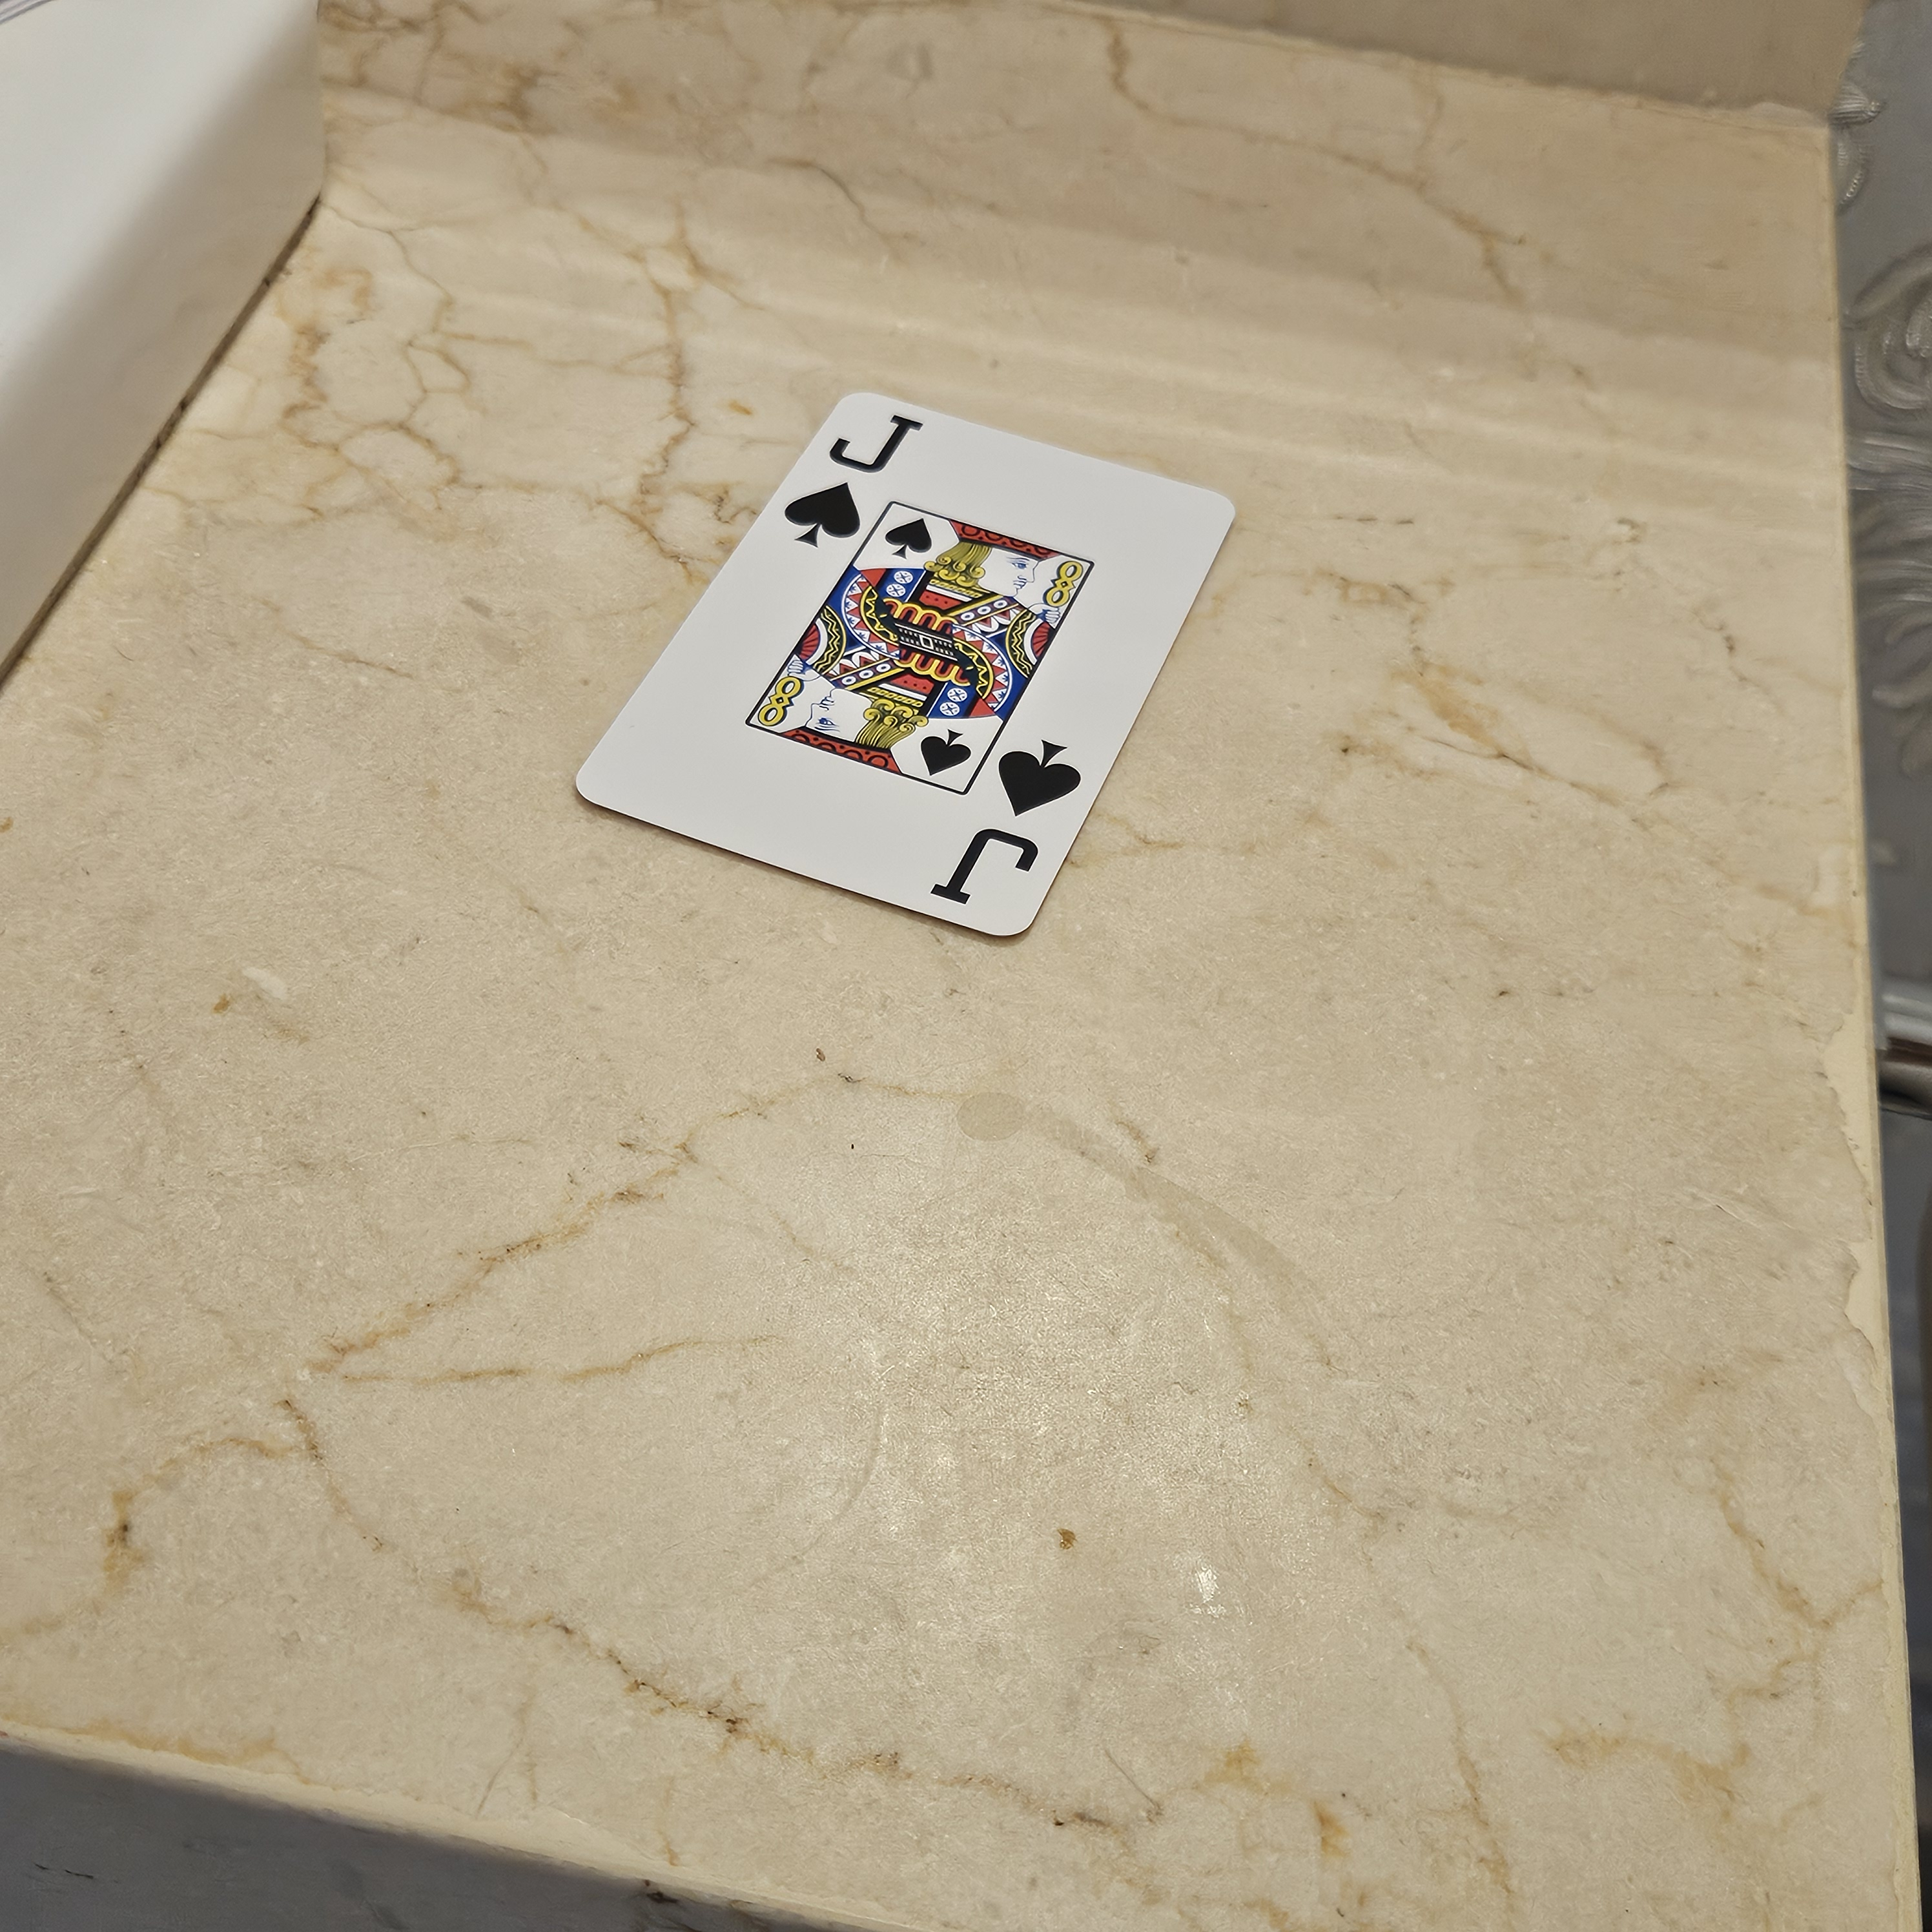JE: (918, 727, 1093, 936), (773, 400, 934, 570)
